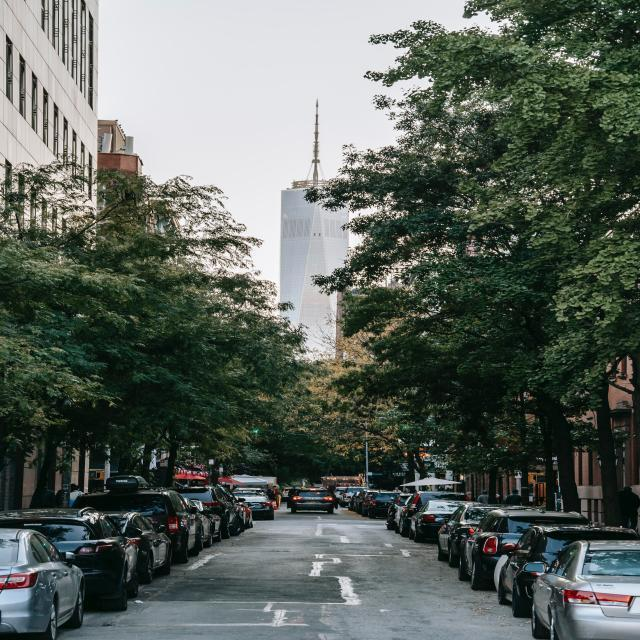tree: (0, 152, 285, 544), (423, 74, 640, 528)
